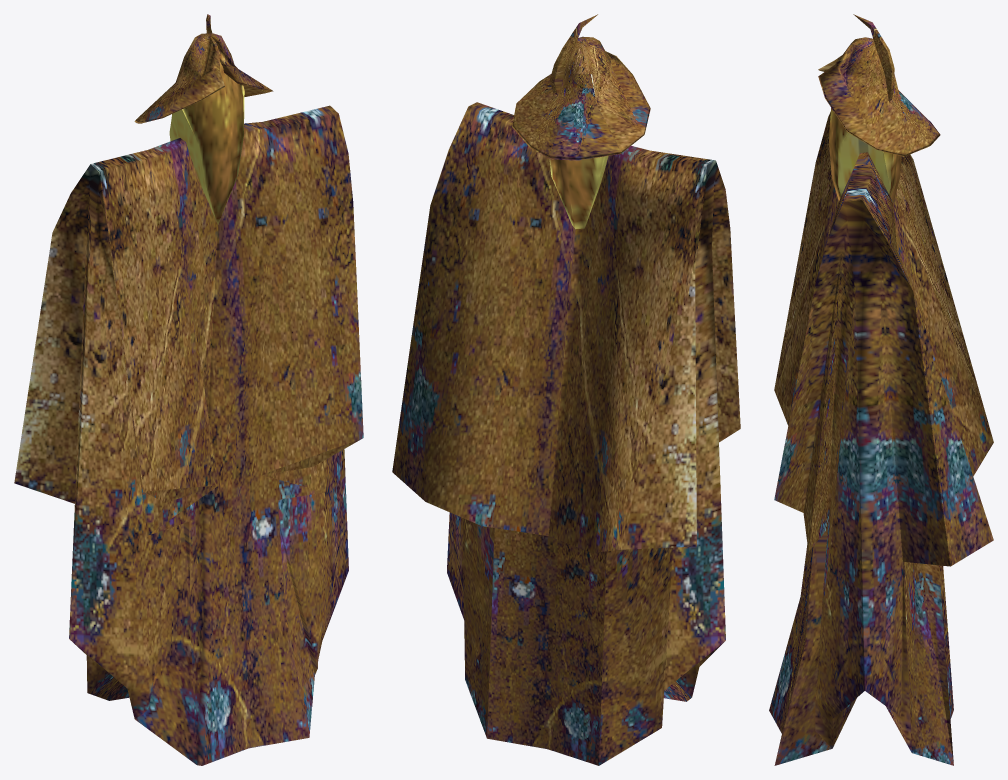
File: frn_all_decorative_lg_s2_l0.fbx
The picture shows the model from 3 angles, left to right: view 1: azimuth 30°, elevation 25°; view 2: azimuth 150°, elevation 25°; view 3: azimuth 270°, elevation 25°; orthographic projection. The views are drawn at different scales.
Visible parts, largest first — view 1: mesh_node; view 2: mesh_node; view 3: mesh_node.
Part boxes in pixels (bbox=[...]): mesh_node: bbox=[14, 14, 363, 765]; mesh_node: bbox=[392, 14, 740, 765]; mesh_node: bbox=[769, 14, 993, 765].
Bounding box in the file's own units: 0.729 × 1.61 × 0.4551.
1 material, 1 textured.
